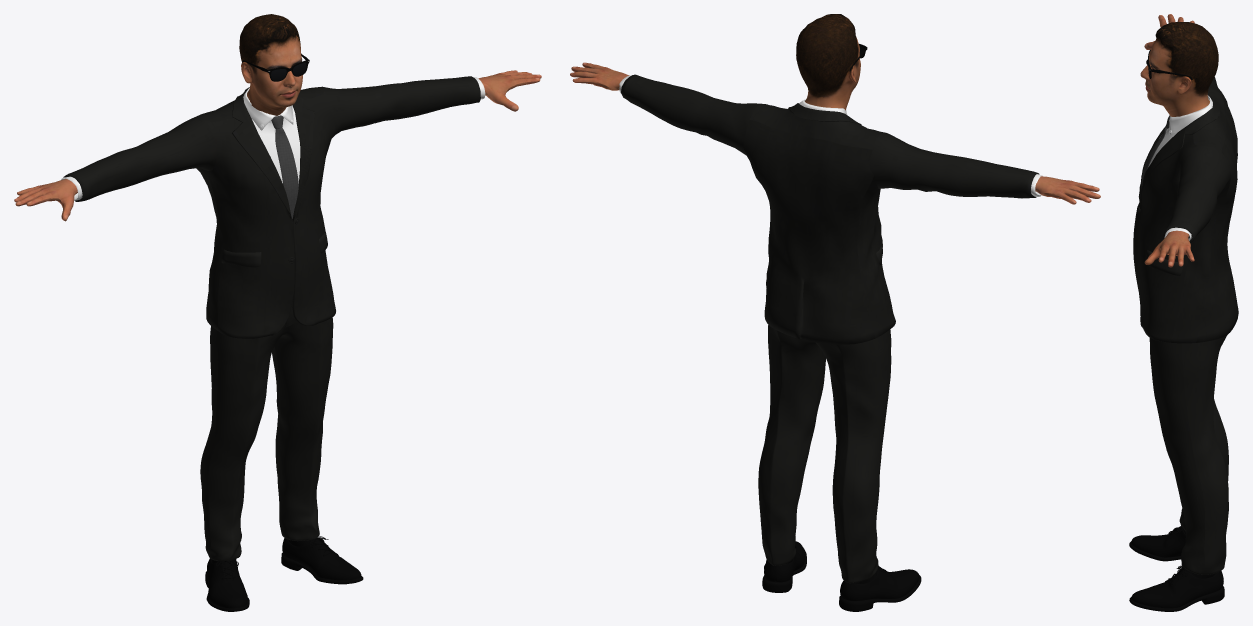
Rendered from patient.fbx.
The picture shows the model from 3 angles, left to right: view 1: azimuth 30°, elevation 25°; view 2: azimuth 150°, elevation 25°; view 3: azimuth 270°, elevation 25°; orthographic projection. The views are drawn at different scales.
Visible parts, largest first — view 1: Object_17, Object_9, Object_7; view 2: Object_17, Object_9, Object_7; view 3: Object_17, Object_9, Object_7, Object_16.
Part boxes in pixels (<box>): Object_17: <box>61,76,485,611</box>; Object_9: <box>239,14,302,115</box>; Object_7: <box>14,70,541,221</box>; Object_17: <box>619,74,1042,611</box>; Object_9: <box>796,14,860,110</box>; Object_7: <box>570,62,1100,204</box>; Object_17: <box>1129,77,1238,611</box>; Object_9: <box>1140,22,1218,116</box>; Object_7: <box>1144,14,1194,267</box>; Object_16: <box>1146,49,1192,79</box>.
Bounding box in the file's own units: 176 × 181 × 32.39.
11 materials, 10 textured.
